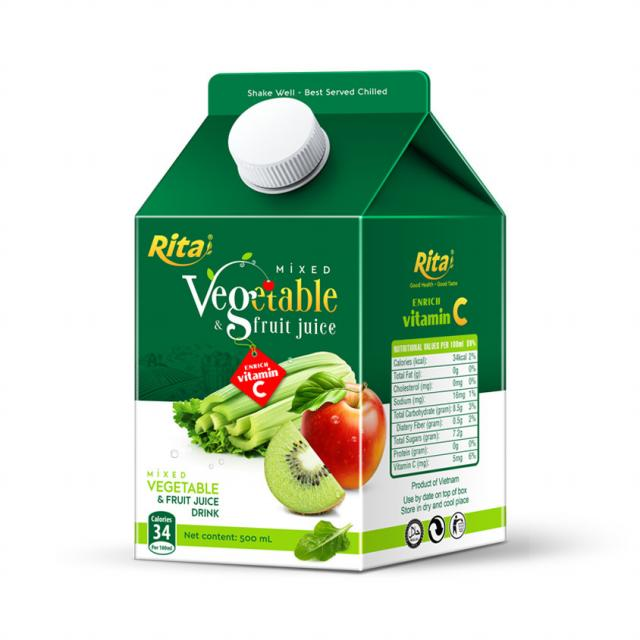non_white_jug: (112, 53, 519, 585)
